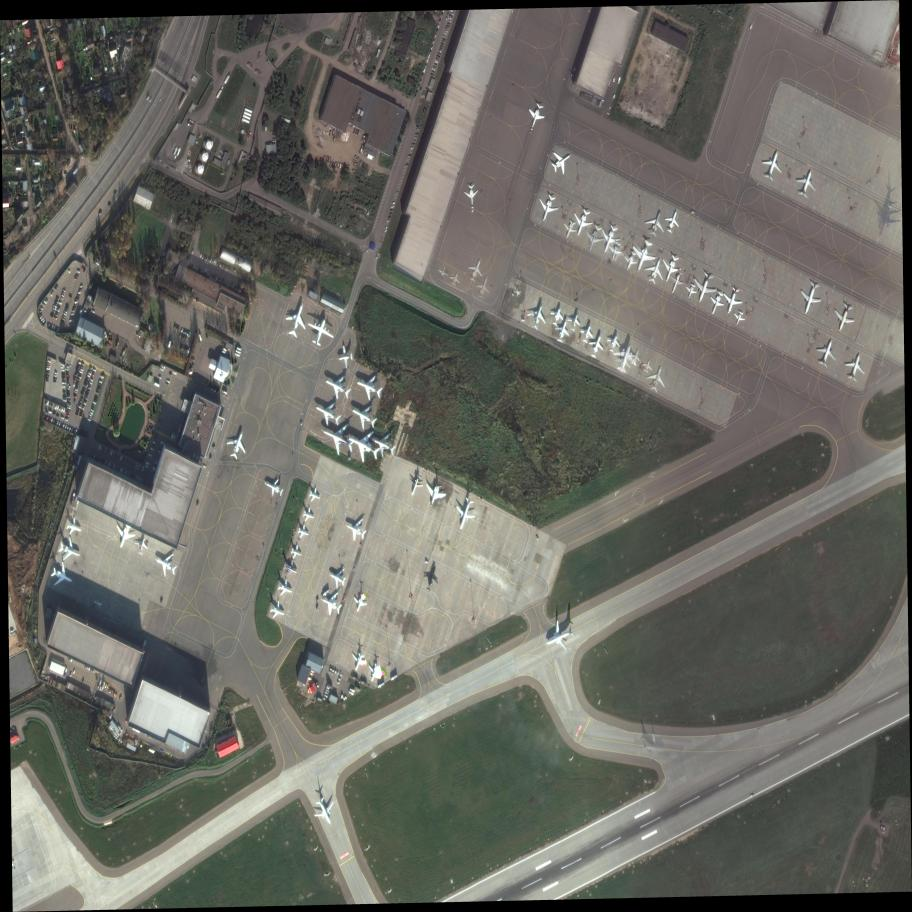large-vehicle: (223, 71, 232, 84), (216, 86, 224, 99), (172, 146, 179, 155), (176, 148, 181, 156)
plane: (312, 413, 364, 461), (340, 421, 390, 468), (539, 615, 579, 659), (302, 309, 340, 352), (348, 368, 390, 405), (625, 235, 661, 278), (308, 394, 348, 431), (345, 397, 384, 434), (317, 368, 357, 404), (364, 426, 403, 462), (281, 298, 314, 340), (687, 268, 721, 308), (609, 337, 642, 377), (148, 547, 184, 581), (795, 278, 825, 318), (309, 794, 342, 830), (450, 495, 480, 534), (545, 143, 578, 178), (812, 334, 843, 371), (829, 299, 860, 336), (840, 348, 871, 384), (758, 146, 788, 183), (340, 512, 371, 547), (532, 190, 562, 226), (595, 221, 625, 257), (523, 298, 553, 333), (222, 428, 252, 463), (640, 253, 670, 288), (642, 361, 672, 395), (316, 586, 346, 620), (579, 220, 608, 255), (656, 251, 685, 286), (792, 166, 821, 201), (48, 559, 78, 592), (641, 207, 671, 240), (567, 205, 596, 239), (717, 284, 746, 318), (55, 534, 85, 566), (110, 520, 139, 553), (421, 479, 449, 511), (259, 473, 288, 501), (523, 100, 548, 131), (641, 733, 667, 762), (325, 562, 350, 592), (464, 254, 488, 285), (661, 205, 685, 235), (705, 288, 729, 318), (585, 331, 608, 361), (420, 563, 443, 593), (665, 268, 688, 297), (473, 272, 495, 301), (552, 316, 574, 345), (612, 347, 634, 375), (405, 471, 426, 498), (347, 649, 369, 674), (267, 598, 289, 623), (620, 248, 641, 273), (364, 661, 385, 685), (280, 557, 301, 581), (559, 217, 580, 241), (547, 303, 567, 328), (604, 330, 624, 355), (350, 590, 370, 615), (132, 532, 152, 557), (275, 577, 296, 600), (565, 310, 585, 334), (605, 239, 625, 263), (626, 345, 646, 368), (577, 322, 596, 345), (337, 345, 354, 369), (65, 516, 84, 537), (730, 308, 748, 328), (682, 281, 700, 301), (639, 356, 656, 375), (463, 184, 479, 204), (447, 269, 463, 288), (289, 543, 305, 562), (307, 486, 323, 505), (296, 523, 312, 541), (301, 506, 317, 524), (436, 265, 450, 278)
small-vehicle: (377, 682, 386, 689), (389, 674, 398, 681), (348, 688, 356, 694), (198, 333, 203, 341), (348, 691, 355, 696), (234, 350, 241, 355), (145, 95, 150, 101), (323, 694, 329, 699), (324, 689, 330, 694), (325, 686, 331, 691), (222, 390, 228, 395), (234, 353, 241, 357), (98, 679, 102, 686), (53, 304, 58, 309), (98, 211, 103, 216), (66, 269, 71, 274), (430, 72, 435, 77), (387, 215, 392, 220), (109, 726, 114, 731), (112, 731, 117, 736), (113, 733, 118, 738), (114, 734, 119, 739), (271, 132, 276, 137), (9, 629, 14, 634), (76, 406, 81, 411), (222, 350, 227, 355), (166, 379, 171, 384), (79, 309, 83, 315), (149, 97, 153, 103), (106, 683, 110, 689), (221, 278, 225, 284), (749, 23, 753, 29), (324, 691, 330, 695), (307, 677, 313, 681), (54, 404, 58, 410), (185, 346, 189, 352), (69, 672, 73, 678), (87, 665, 91, 671), (172, 371, 178, 375), (60, 363, 65, 367), (65, 365, 70, 369), (54, 316, 59, 320), (66, 387, 71, 391), (74, 300, 79, 304), (91, 309, 96, 313), (58, 301, 63, 305), (62, 315, 67, 319), (56, 306, 61, 310), (62, 408, 66, 413), (67, 399, 72, 403), (98, 380, 103, 384), (88, 381, 93, 385), (87, 386, 92, 390), (85, 376, 90, 380), (84, 379, 89, 383), (83, 384, 88, 388), (78, 413, 83, 417), (64, 418, 69, 422), (79, 368, 84, 372), (80, 365, 85, 369), (86, 374, 91, 378), (92, 368, 97, 372), (92, 401, 97, 405), (88, 413, 93, 417), (153, 102, 157, 107), (50, 290, 54, 295), (49, 292, 53, 297), (440, 42, 445, 46), (438, 47, 443, 51), (435, 57, 440, 61), (432, 65, 437, 69), (416, 128, 421, 132), (411, 142, 416, 146), (441, 40, 446, 44), (422, 68, 426, 73), (443, 32, 448, 36), (444, 30, 449, 34), (448, 17, 453, 21), (450, 12, 455, 16), (444, 26, 449, 30), (442, 34, 447, 38), (108, 724, 112, 729), (110, 727, 114, 732), (111, 729, 115, 734), (309, 672, 314, 676), (612, 94, 616, 99), (135, 476, 139, 481), (137, 477, 141, 482), (448, 14, 453, 18), (75, 409, 80, 413), (96, 388, 101, 392), (98, 445, 102, 450), (70, 427, 74, 432), (77, 405, 82, 409), (48, 410, 53, 414), (68, 427, 72, 432), (237, 347, 242, 351), (223, 348, 228, 352), (191, 249, 195, 254), (180, 328, 184, 333), (161, 365, 166, 369), (162, 58, 165, 64), (58, 421, 61, 427), (419, 78, 422, 84), (417, 83, 420, 89), (419, 86, 422, 92), (190, 264, 193, 270), (217, 276, 220, 282), (134, 475, 137, 481), (749, 794, 755, 797), (171, 433, 174, 439), (57, 404, 60, 410), (46, 415, 49, 421), (54, 419, 57, 425), (183, 328, 186, 334), (184, 328, 187, 334), (186, 329, 189, 335), (211, 258, 214, 264), (188, 332, 191, 338), (113, 464, 116, 470), (83, 309, 87, 313), (56, 308, 60, 312), (72, 309, 76, 313), (50, 314, 54, 318), (73, 395, 77, 399), (67, 401, 71, 405), (78, 375, 82, 379), (89, 366, 93, 370), (79, 411, 83, 415), (73, 390, 77, 394), (74, 388, 78, 392), (79, 370, 83, 374), (78, 361, 82, 365), (89, 378, 93, 382), (90, 411, 94, 415), (87, 418, 91, 422), (67, 406, 71, 410), (42, 319, 46, 323), (40, 317, 44, 321), (62, 289, 66, 293), (43, 300, 47, 304), (42, 302, 46, 306), (81, 405, 85, 409), (83, 399, 87, 403), (437, 52, 441, 56), (436, 54, 440, 58), (434, 62, 438, 66), (435, 28, 439, 32), (432, 67, 436, 71), (438, 50, 442, 54), (97, 386, 101, 390), (160, 441, 164, 445), (148, 454, 152, 458), (146, 461, 150, 465), (82, 386, 86, 390), (57, 328, 60, 333), (45, 374, 50, 377), (47, 360, 52, 363), (46, 365, 51, 368), (64, 308, 69, 311), (54, 314, 59, 317), (52, 308, 57, 311), (61, 318, 66, 321), (51, 325, 54, 330), (53, 303, 58, 306), (50, 312, 55, 315), (62, 399, 67, 402), (61, 407, 64, 412), (90, 409, 95, 412), (47, 400, 50, 405), (50, 418, 53, 423), (56, 421, 59, 426), (60, 416, 65, 419), (76, 270, 81, 273), (74, 275, 79, 278), (77, 291, 82, 294), (60, 294, 65, 297), (45, 298, 48, 303), (39, 307, 44, 310), (415, 89, 418, 94), (414, 93, 417, 98), (415, 125, 420, 128), (410, 146, 415, 149), (438, 18, 441, 23), (441, 38, 446, 41), (432, 38, 435, 43), (430, 45, 433, 50), (429, 49, 432, 54), (421, 72, 424, 77), (424, 63, 427, 68), (428, 53, 431, 58), (426, 58, 429, 63), (434, 60, 439, 63), (445, 25, 450, 28), (310, 670, 315, 673), (194, 267, 197, 272), (212, 274, 215, 279), (219, 278, 222, 283), (104, 684, 107, 689), (100, 446, 103, 451), (80, 392, 85, 395), (65, 414, 70, 417), (95, 390, 100, 393), (97, 383, 102, 386), (75, 429, 78, 434), (84, 395, 89, 398), (48, 401, 51, 406), (42, 414, 45, 419), (44, 415, 47, 420), (48, 417, 51, 422), (52, 419, 55, 424), (60, 422, 63, 427), (62, 424, 65, 429), (64, 424, 67, 429), (66, 426, 69, 431), (142, 467, 145, 472), (119, 468, 122, 473), (187, 348, 190, 353), (181, 345, 184, 350), (170, 218, 173, 223), (203, 255, 206, 260), (213, 259, 216, 264), (177, 326, 180, 331), (173, 324, 176, 329), (108, 462, 111, 467), (136, 465, 139, 470), (139, 478, 142, 483), (73, 669, 76, 674), (160, 368, 165, 371), (65, 306, 69, 309), (45, 379, 49, 382), (46, 372, 50, 375), (46, 370, 50, 373), (46, 367, 50, 370), (53, 374, 57, 377), (65, 368, 69, 371), (61, 366, 65, 369), (62, 382, 66, 385), (64, 310, 68, 313), (63, 313, 67, 316), (71, 313, 75, 316), (54, 325, 56, 331), (52, 310, 56, 313), (55, 311, 59, 314), (67, 385, 71, 388), (270, 131, 274, 134), (65, 371, 69, 374), (66, 374, 70, 377), (66, 376, 70, 379), (66, 379, 70, 382), (66, 382, 70, 385), (67, 404, 71, 407), (78, 373, 82, 376), (91, 373, 95, 376), (80, 409, 84, 412), (81, 407, 85, 410), (74, 374, 78, 377), (81, 363, 85, 366), (100, 375, 104, 378), (39, 316, 43, 319), (74, 277, 78, 280), (79, 285, 83, 288), (61, 292, 65, 295), (60, 297, 64, 300), (54, 300, 58, 303), (83, 402, 87, 405), (431, 70, 435, 73), (415, 132, 419, 135), (414, 136, 418, 139), (408, 154, 412, 157), (405, 163, 409, 166), (395, 191, 399, 194), (392, 202, 396, 205), (440, 45, 444, 48), (434, 33, 437, 37), (448, 20, 452, 23), (445, 16, 448, 20), (447, 22, 451, 25), (391, 205, 395, 208), (390, 208, 394, 211), (389, 212, 393, 215), (193, 265, 195, 271), (272, 138, 276, 141), (387, 219, 391, 222), (536, 536, 539, 540), (521, 319, 525, 322), (437, 24, 440, 28), (84, 397, 88, 400), (93, 399, 97, 402), (88, 383, 92, 386), (88, 384, 92, 387), (152, 441, 156, 444), (150, 448, 154, 451), (145, 465, 149, 468), (110, 451, 113, 455), (92, 404, 96, 407), (56, 414, 60, 417), (153, 467, 157, 470), (124, 471, 127, 475), (200, 252, 202, 258), (208, 256, 210, 262), (121, 469, 124, 473), (134, 465, 137, 469), (84, 665, 87, 669), (158, 376, 162, 379), (61, 385, 66, 387), (48, 323, 50, 328), (211, 273, 213, 278), (109, 450, 111, 455), (81, 390, 86, 392), (174, 435, 176, 440), (120, 456, 122, 461), (447, 11, 449, 16), (59, 405, 61, 410), (65, 408, 67, 413), (202, 254, 204, 259), (205, 256, 207, 261), (210, 258, 212, 263), (82, 678, 84, 683), (72, 308, 75, 311), (53, 379, 56, 382), (88, 372, 91, 375), (45, 377, 49, 379), (53, 377, 57, 379), (47, 363, 51, 365), (61, 369, 65, 371), (67, 396, 71, 398), (38, 310, 42, 312), (78, 288, 82, 290), (189, 264, 191, 268), (272, 141, 276, 143), (45, 400, 47, 404), (51, 403, 53, 407), (441, 12, 443, 16), (86, 665, 88, 669), (105, 461, 107, 465), (92, 668, 94, 672), (209, 456, 211, 460), (73, 306, 76, 308), (54, 372, 57, 374), (212, 446, 215, 448), (74, 398, 75, 403)
